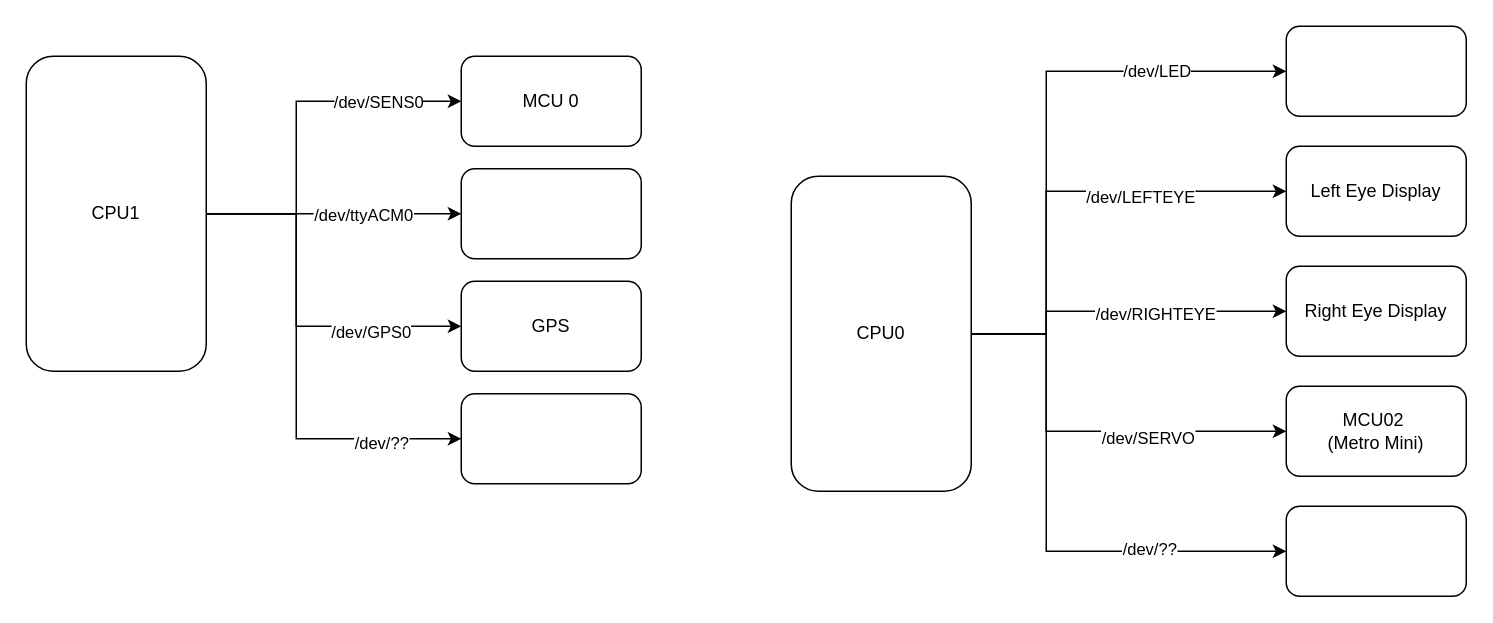
Image size: 1493x623. Some labels were removed from this diagram. The shapes that lost their labels are listed below. From the top down, each one's centre as x and y in pixels, then its label:
At pixel 1375 70: "MCU 1 (LED Array)".
At pixel 550 213: "Leonardo (built-in)".
At pixel 550 438: "Oak-D".
At pixel 1375 550: "Oak-D 1".
